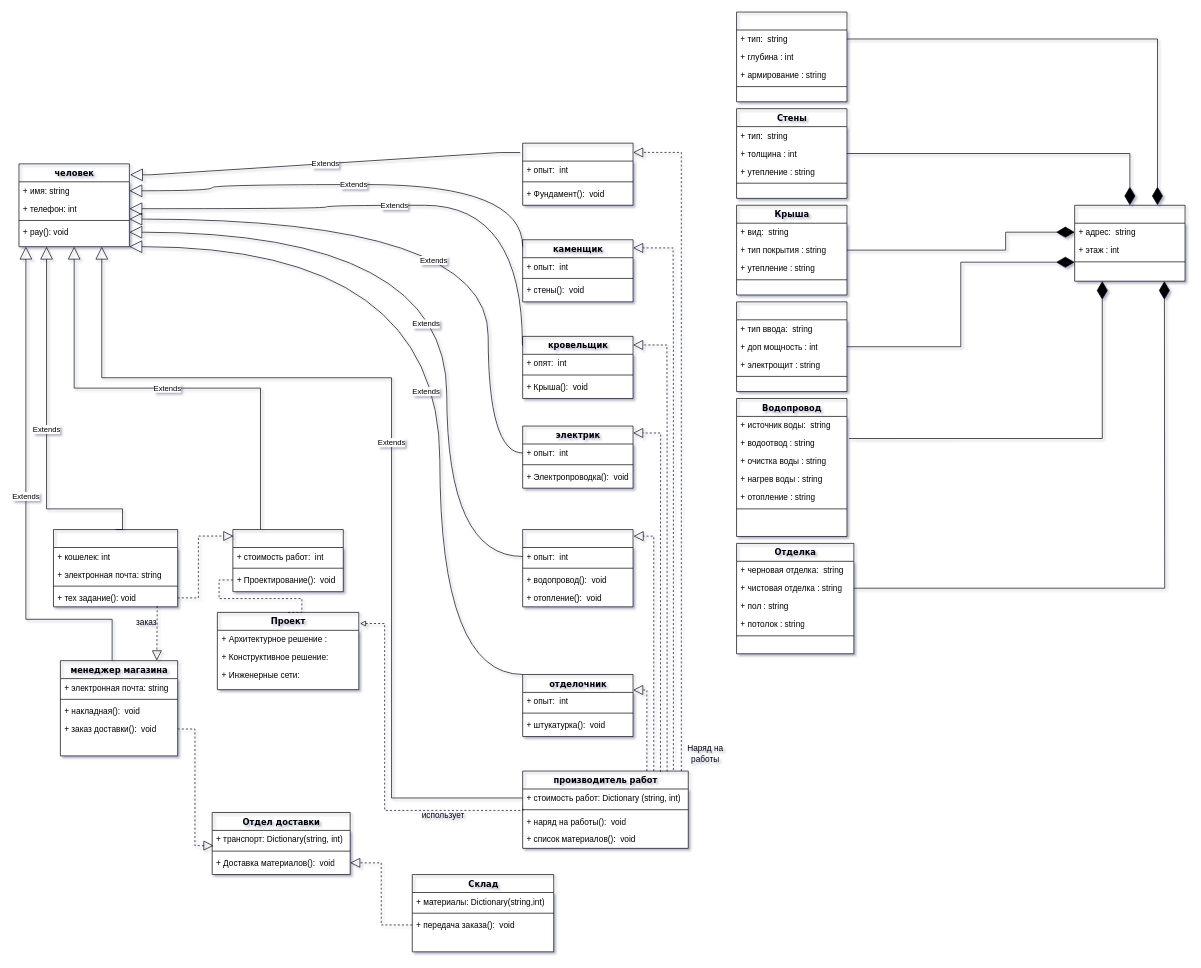
This 1201x968 diagram has some shape labels left out. The box of each missing label's shape, as (x1, y1, x2, y2) in pixels:
архитектор: (232, 529, 343, 592)
бетонщик: (522, 142, 633, 205)
Дом: (1074, 205, 1185, 281)
заказчик: (53, 529, 178, 607)
сантехник: (522, 529, 633, 607)
Фундамент: (736, 11, 847, 102)
Электрика: (736, 301, 847, 392)
